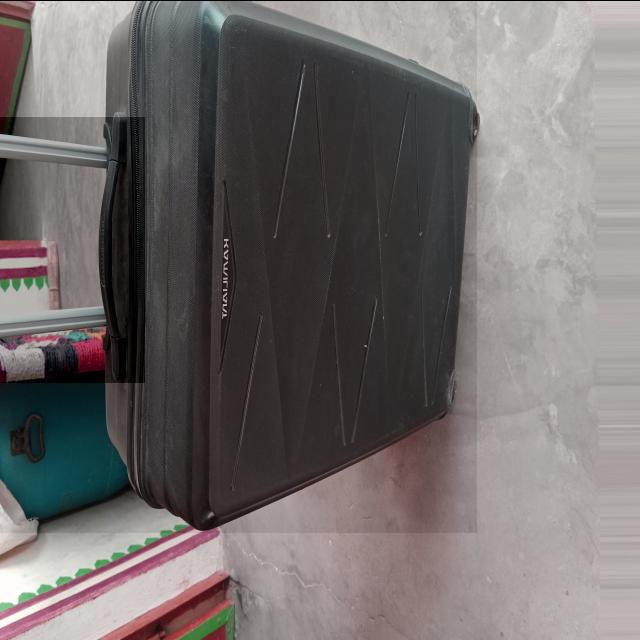Bag: (3, 3, 481, 553)
Handle: (2, 121, 160, 380)
